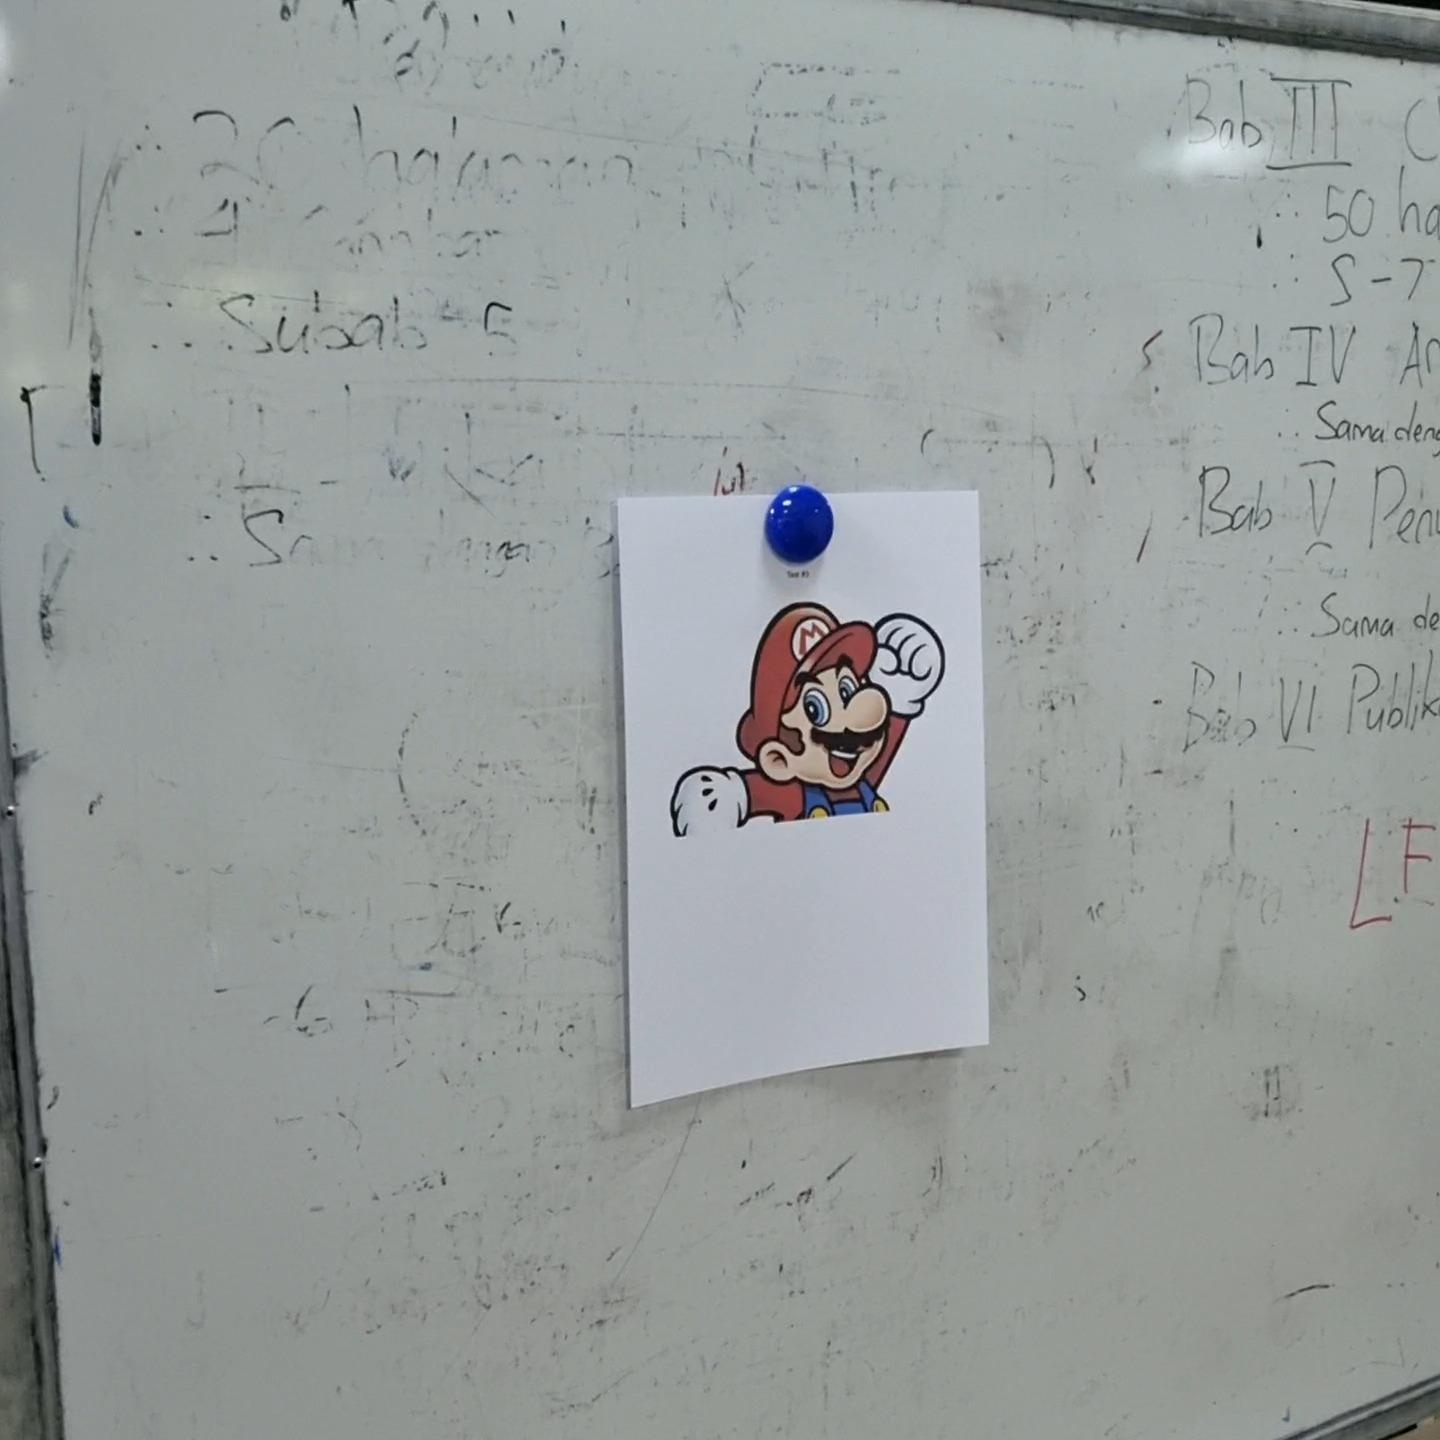mario: (661, 591, 951, 841)
